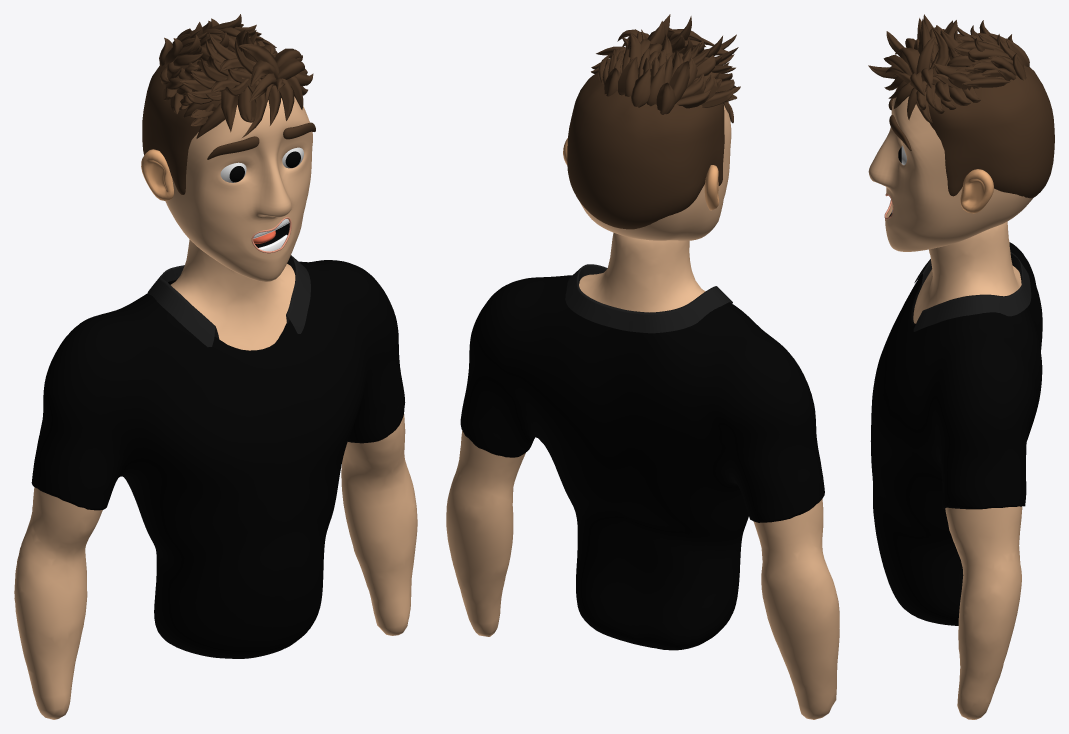
The model's file is myCharacter5.glb.
3 renders of one model, left to right at view 1: azimuth 30°, elevation 25°; view 2: azimuth 150°, elevation 25°; view 3: azimuth 270°, elevation 25°, orthographic. The views are drawn at different scales.
Parts seen in each view (by area): view 1: Kunas, Galva; view 2: Kunas, Galva; view 3: Kunas, Galva.
Boxes of the visible parts, <box> form: Kunas: <box>14,239,417,719</box>; Galva: <box>141,14,315,281</box>; Kunas: <box>446,232,839,719</box>; Galva: <box>563,14,740,240</box>; Kunas: <box>870,221,1042,719</box>; Galva: <box>868,14,1054,251</box>.
Bounding box in the file's own units: 0.4827 × 0.775 × 0.2125.
Materials: 2 (2 with a texture image).
